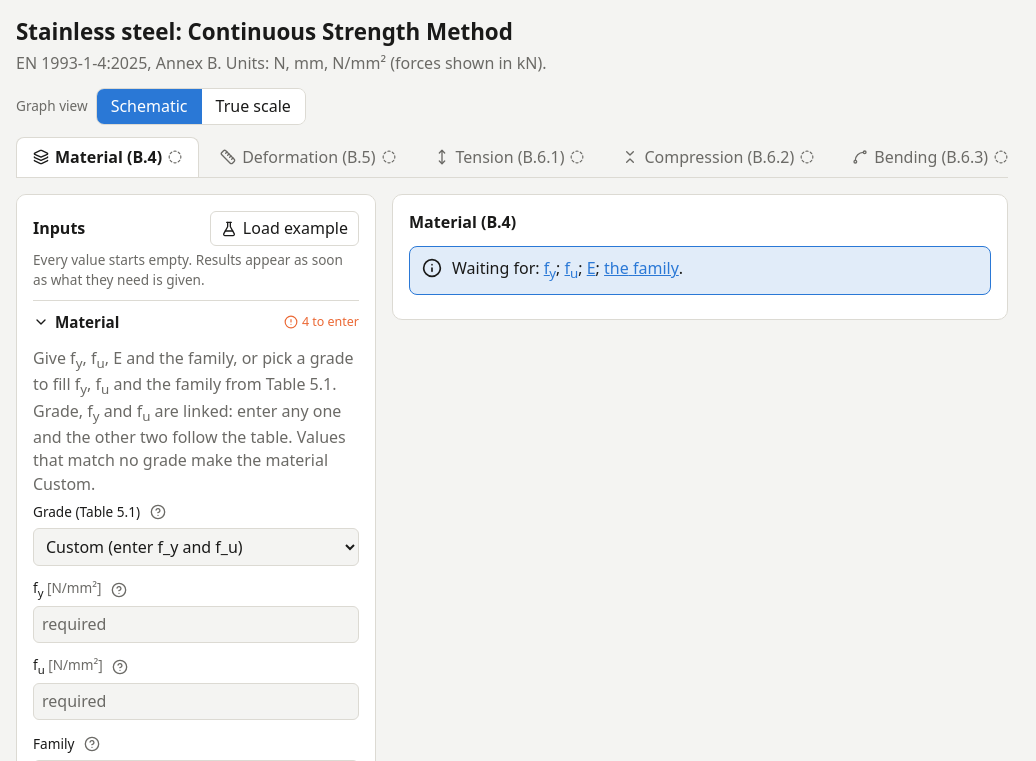
it: the result tabs › list the missing inputs as links that open the field in the dock
This screenshot has width=1036, height=761.
Click the tab "Tension (B.6.1)": (509, 157) [416,137,601,177]
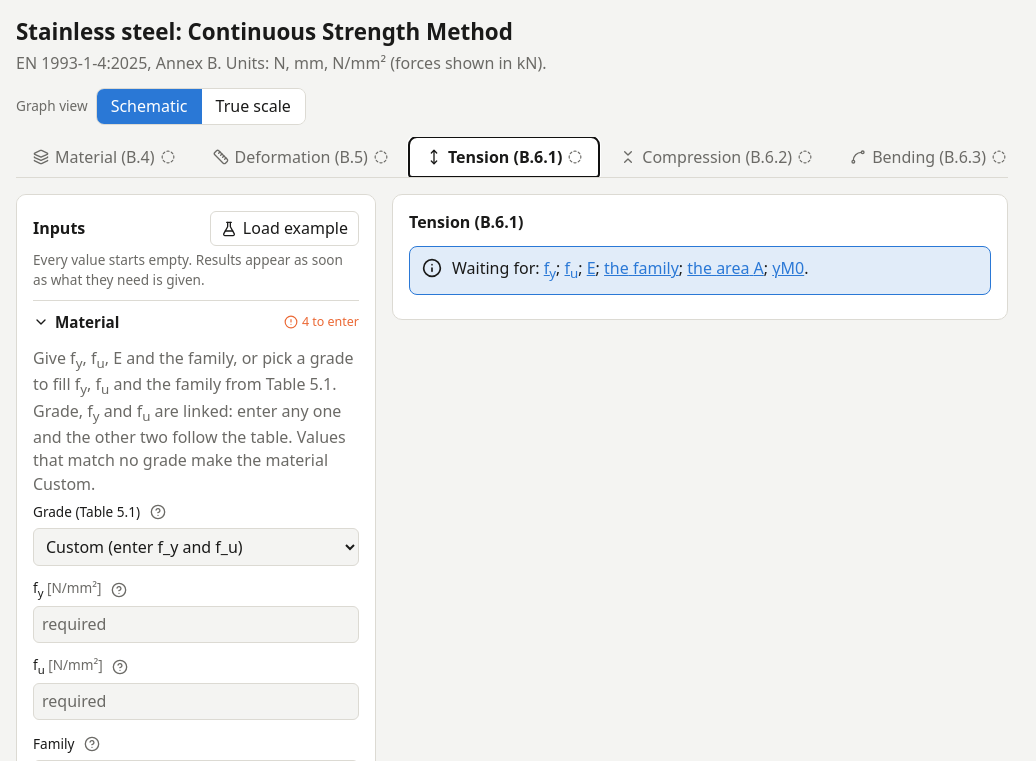
Check: the message reads "Waiting for: fy ; fu ; E ; the family ; the area A ; γM0 .", box [409,246,991,295]
Click the button "the area A": (726, 269) [687,257,764,280]
(page scrolled)
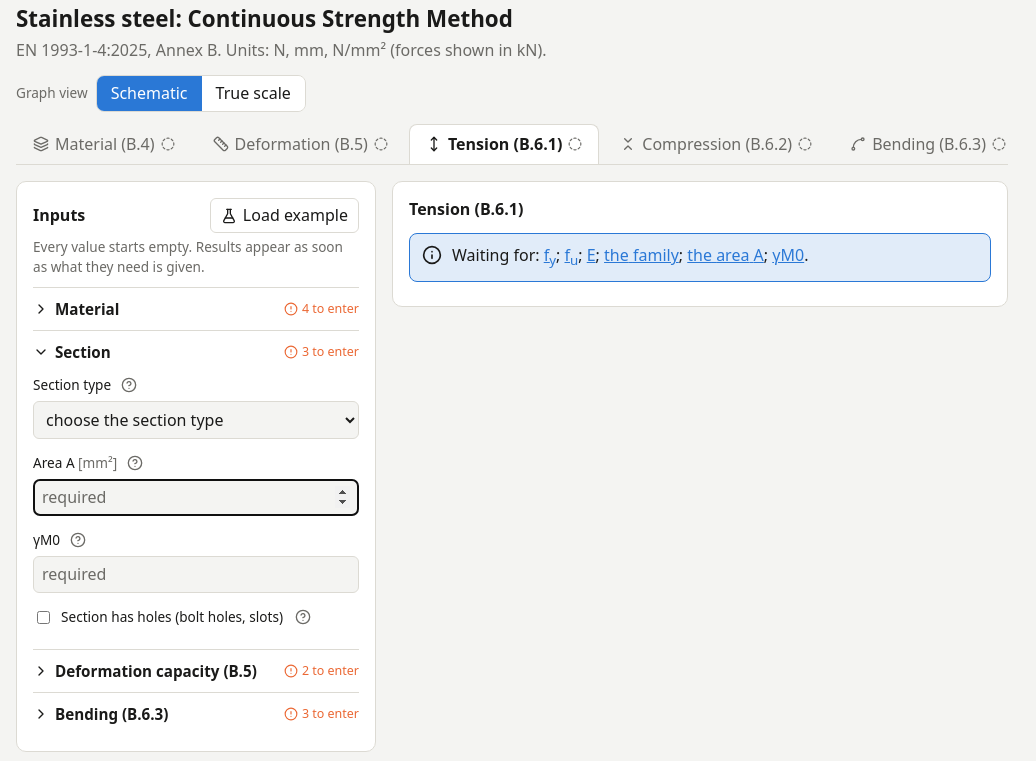
Check: the button "Section 3 to enter" is expanded, box [33,331,359,373]
